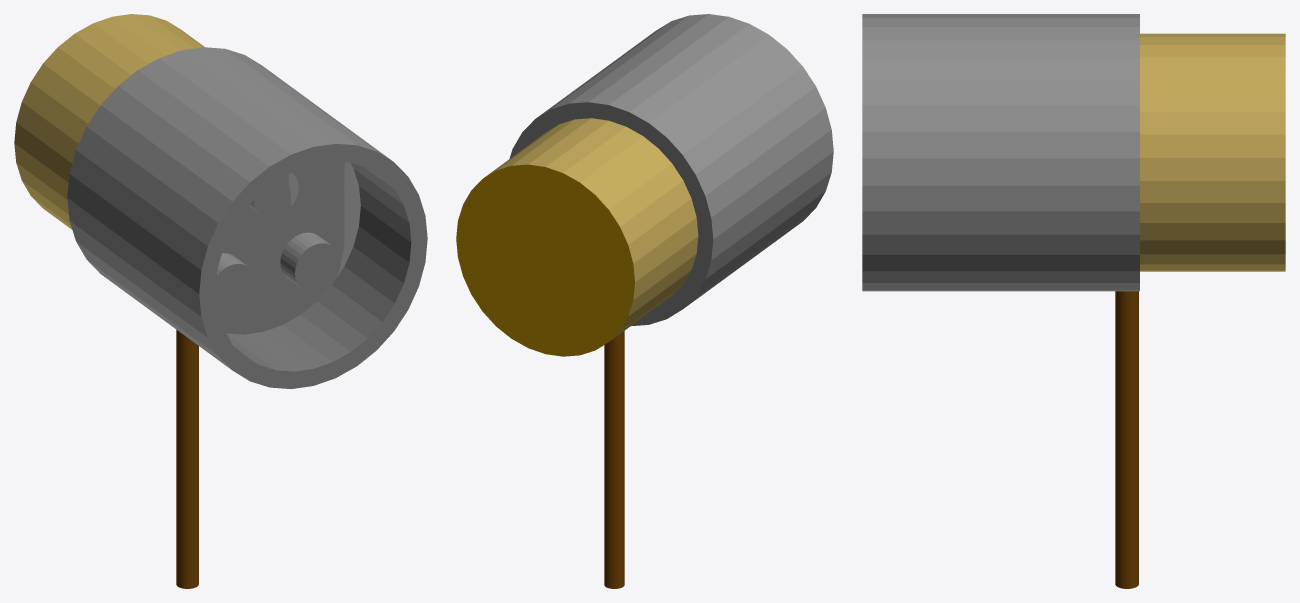
The model's file is Hammer.obj.
3 views of the same model, side by side, from view 1: azimuth 30°, elevation 25°; view 2: azimuth 150°, elevation 25°; view 3: azimuth 270°, elevation 25° (orthographic). The views are drawn at different scales.
Visible parts, largest first — view 1: 円柱.005; view 2: 円柱.005; view 3: 円柱.005.
Part boxes in pixels (bbox=[...]): 円柱.005: bbox=[14, 14, 427, 588]; 円柱.005: bbox=[456, 14, 833, 588]; 円柱.005: bbox=[862, 14, 1285, 588].
Bounding box in the file's own units: 7 × 15.5 × 10.68.
